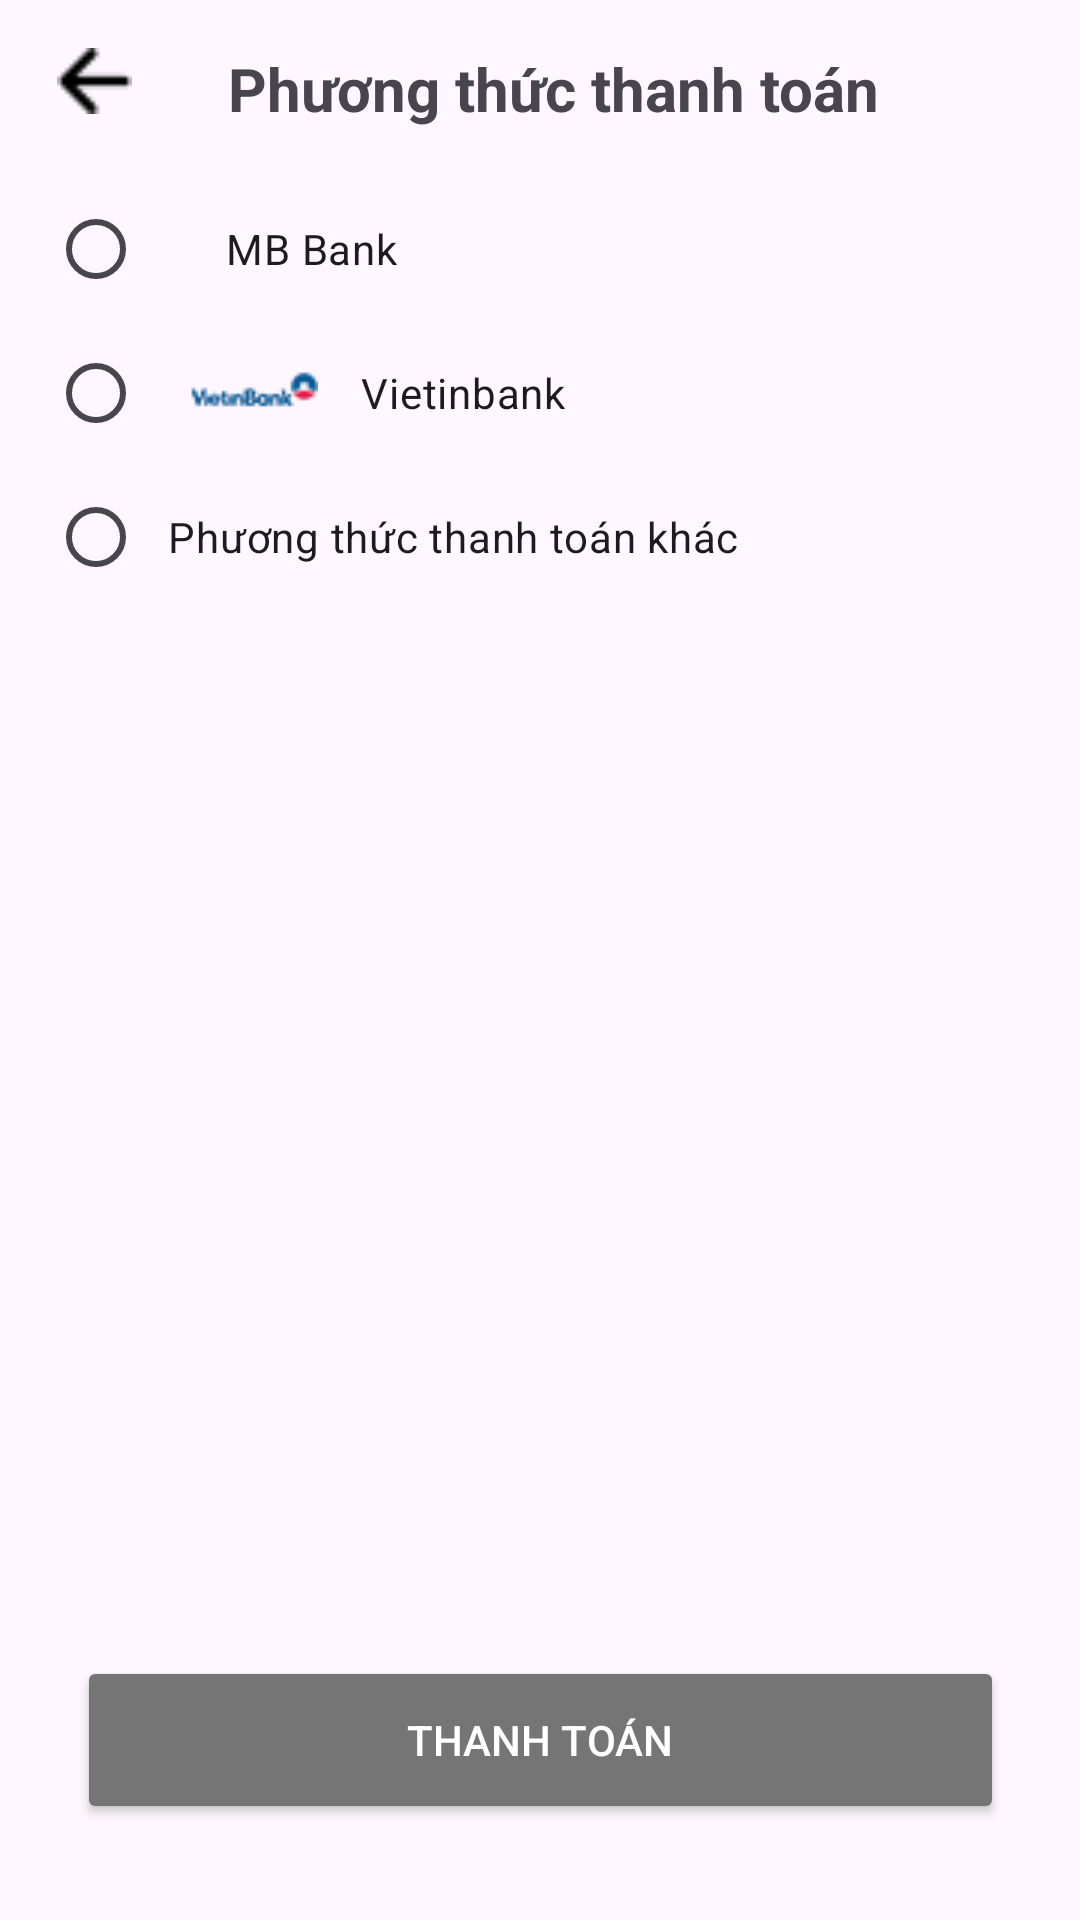

Named icons in this screenshot (1080x1920) and their centers, point (x, y):
back: point (94, 81)
